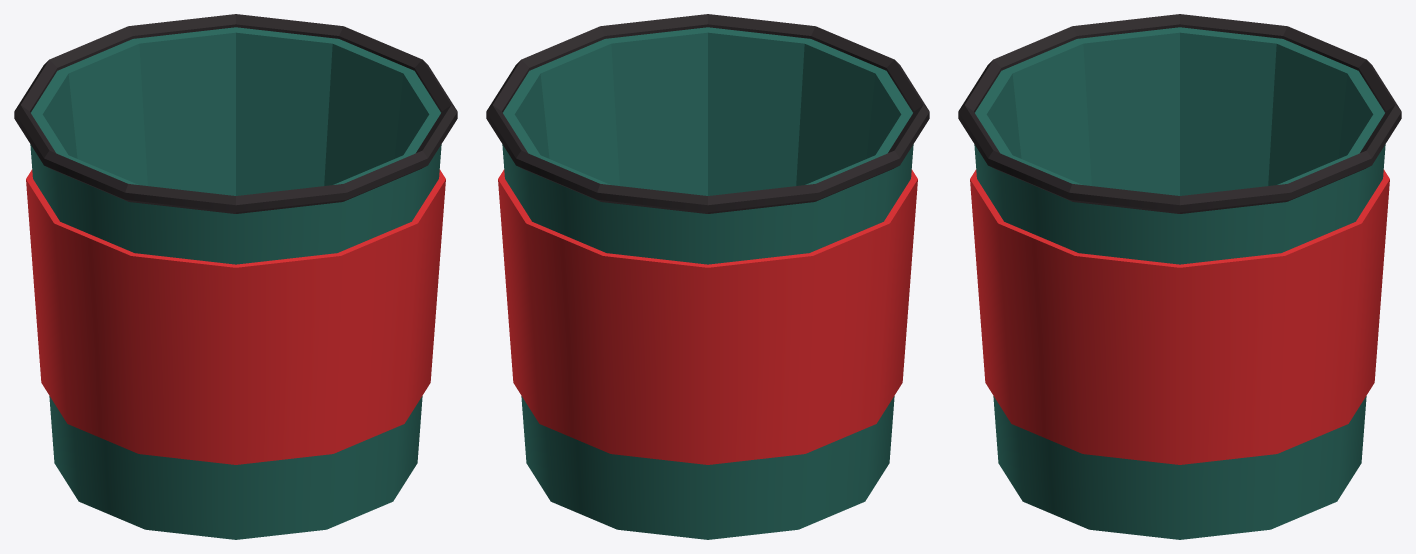
The model's file is SM_desk_bin.fbx.
3 renders of one model, left to right at view 1: azimuth 30°, elevation 25°; view 2: azimuth 150°, elevation 25°; view 3: azimuth 270°, elevation 25°, orthographic.
Parts seen in each view (by area): view 1: desk_bin; view 2: desk_bin; view 3: desk_bin.
Boxes of the visible parts, x1,y1,x2,y2 form: desk_bin: (14, 14, 457, 539); desk_bin: (486, 14, 929, 539); desk_bin: (958, 14, 1401, 539).
Bounding box in the file's own units: 43.61 × 38.87 × 43.61.
